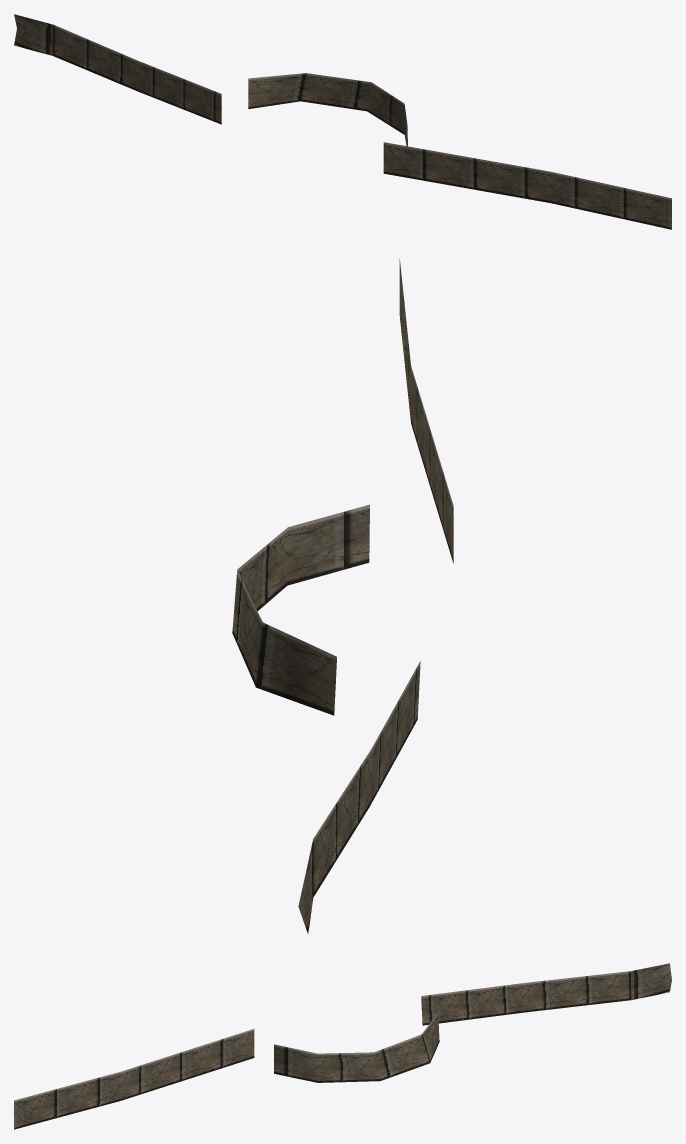
The model's file is CH09_SMAUG_PLAYSURFACE_LAIR134.fbx.
3 views of the same model, one above another, from view 1: azimuth 30°, elevation 25°; view 2: azimuth 150°, elevation 25°; view 3: azimuth 270°, elevation 25° (orthographic). The views are drawn at different scales.
Visible parts, largest first — view 1: CH09_SMAUG_PLAYSURFACE_LAIR134; view 2: CH09_SMAUG_PLAYSURFACE_LAIR134; view 3: CH09_SMAUG_PLAYSURFACE_LAIR134.
Boxes of the visible parts, x1,y1,x2,y2 form: CH09_SMAUG_PLAYSURFACE_LAIR134: [14, 14, 671, 229]; CH09_SMAUG_PLAYSURFACE_LAIR134: [232, 258, 453, 934]; CH09_SMAUG_PLAYSURFACE_LAIR134: [14, 963, 671, 1129].
Bounding box in the file's own units: 61733 × 6181 × 124676.
1 material, 1 textured.
